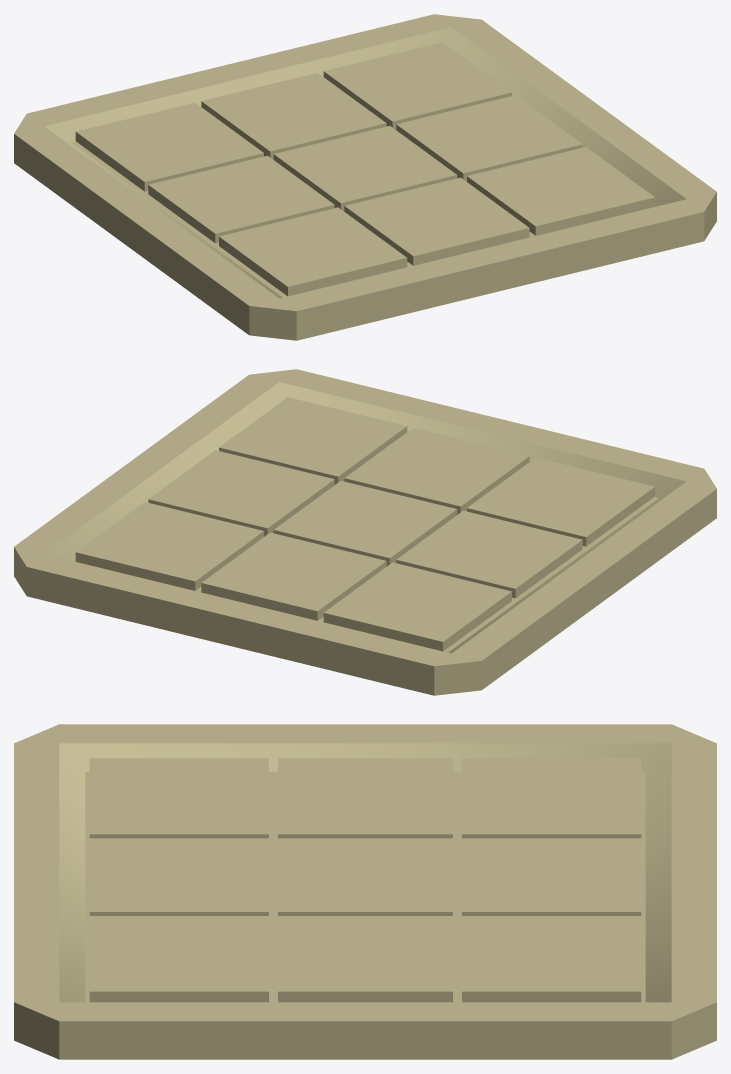
The model's file is Tablero_Puzzle.fbx.
3 renders of one model, top to bottom at view 1: azimuth 30°, elevation 25°; view 2: azimuth 150°, elevation 25°; view 3: azimuth 270°, elevation 25°, orthographic. The views are drawn at different scales.
Parts seen in each view (by area): view 1: Tablero_G, Pieza_1_G, Pieza_3_G, Pieza_2_G, Pieza_9_G, Pieza_6_G, Pieza_7_G, Pieza_4_G, Pieza_8_G, Pieza_5_G; view 2: Tablero_G, Pieza_9_G, Pieza_7_G, Pieza_8_G, Pieza_1_G, Pieza_6_G, Pieza_3_G, Pieza_4_G, Pieza_2_G, Pieza_5_G; view 3: Tablero_G, Pieza_3_G, Pieza_7_G, Pieza_4_G, Pieza_1_G, Pieza_9_G, Pieza_6_G, Pieza_2_G, Pieza_8_G, Pieza_5_G.
Boxes of the visible parts, bbox=[...] form: Tablero_G: bbox=[14, 14, 716, 340]; Pieza_1_G: bbox=[219, 207, 407, 296]; Pieza_3_G: bbox=[467, 147, 655, 235]; Pieza_2_G: bbox=[344, 177, 529, 265]; Pieza_9_G: bbox=[75, 102, 263, 191]; Pieza_6_G: bbox=[148, 155, 334, 243]; Pieza_7_G: bbox=[323, 42, 511, 129]; Pieza_4_G: bbox=[396, 95, 582, 181]; Pieza_8_G: bbox=[201, 73, 386, 159]; Pieza_5_G: bbox=[273, 126, 457, 211]; Tablero_G: bbox=[14, 369, 716, 695]; Pieza_9_G: bbox=[323, 562, 511, 651]; Pieza_7_G: bbox=[75, 502, 263, 590]; Pieza_8_G: bbox=[201, 532, 386, 620]; Pieza_1_G: bbox=[467, 457, 655, 546]; Pieza_6_G: bbox=[396, 510, 582, 598]; Pieza_3_G: bbox=[219, 397, 407, 484]; Pieza_4_G: bbox=[148, 450, 334, 536]; Pieza_2_G: bbox=[344, 428, 529, 514]; Pieza_5_G: bbox=[273, 481, 457, 566]; Tablero_G: bbox=[14, 724, 716, 1059]; Pieza_3_G: bbox=[89, 916, 268, 1002]; Pieza_7_G: bbox=[462, 916, 641, 1002]; Pieza_4_G: bbox=[278, 916, 452, 1002]; Pieza_1_G: bbox=[89, 758, 268, 838]; Pieza_9_G: bbox=[462, 758, 641, 838]; Pieza_6_G: bbox=[278, 758, 452, 838]; Pieza_2_G: bbox=[89, 838, 268, 915]; Pieza_8_G: bbox=[462, 838, 641, 915]; Pieza_5_G: bbox=[278, 838, 452, 915].
Size of the model in its own units: 200 by 12.04 by 200.
